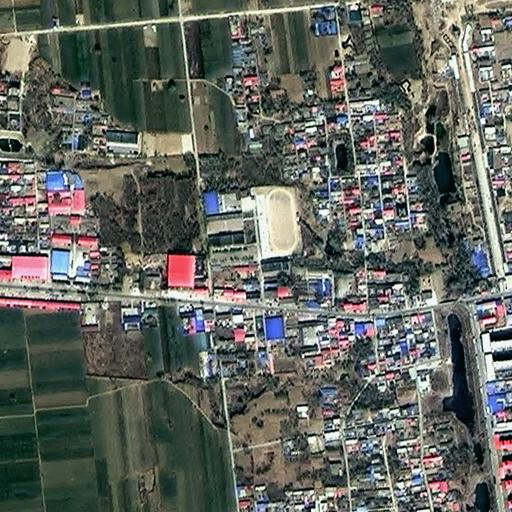school: (203, 184, 300, 258)
